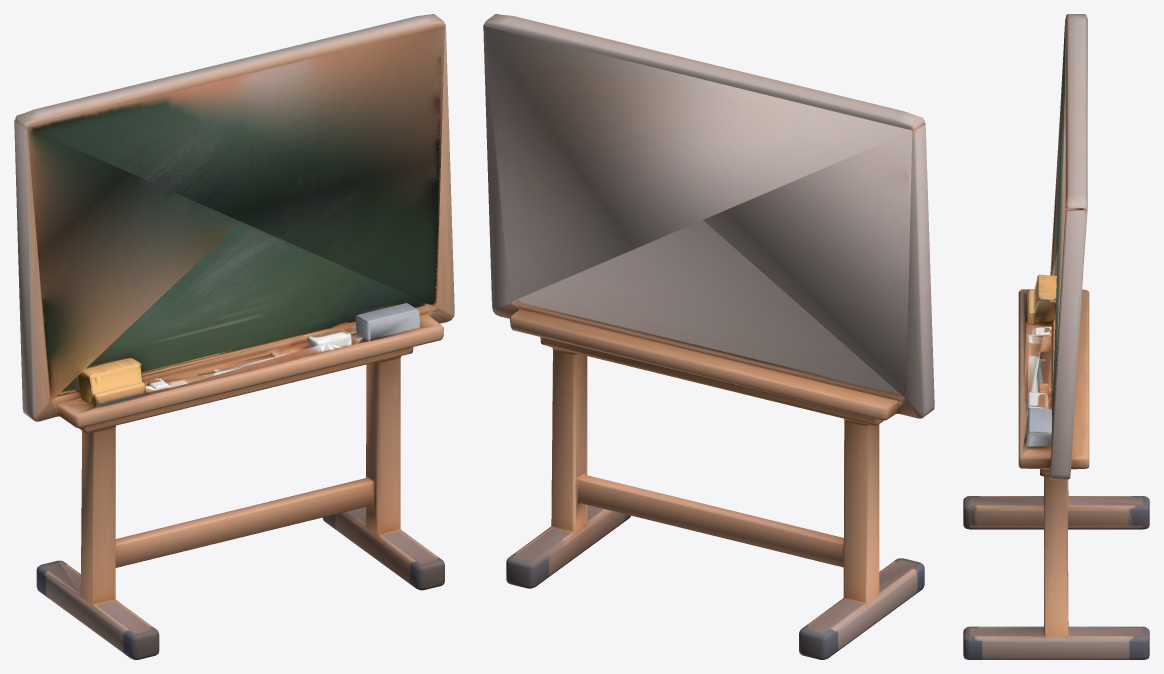
The model's file is blackboard_realistic_style_5cec1287_v2.glb.
The picture shows the model from 3 angles, left to right: view 1: azimuth 30°, elevation 25°; view 2: azimuth 150°, elevation 25°; view 3: azimuth 270°, elevation 25°; orthographic projection. The views are drawn at different scales.
Parts seen in each view (by area): view 1: texture_pbr_20250901; view 2: texture_pbr_20250901; view 3: texture_pbr_20250901.
Boxes of the visible parts, left/top/right/bottom form: texture_pbr_20250901: left=14, top=14, right=454, bottom=659; texture_pbr_20250901: left=483, top=14, right=934, bottom=659; texture_pbr_20250901: left=963, top=14, right=1149, bottom=659.
Size of the model in its own units: 1.63 by 1.9 by 0.6641.
1 material, 1 textured.
